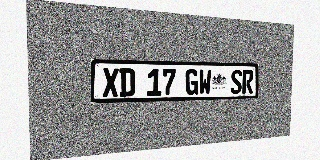1: (147, 68, 161, 96)
7: (162, 69, 176, 96)
D: (119, 68, 135, 97)
G: (185, 69, 198, 95)
R: (242, 70, 253, 94)
S: (230, 70, 242, 94)
W: (199, 69, 211, 95)
X: (102, 68, 119, 97)
